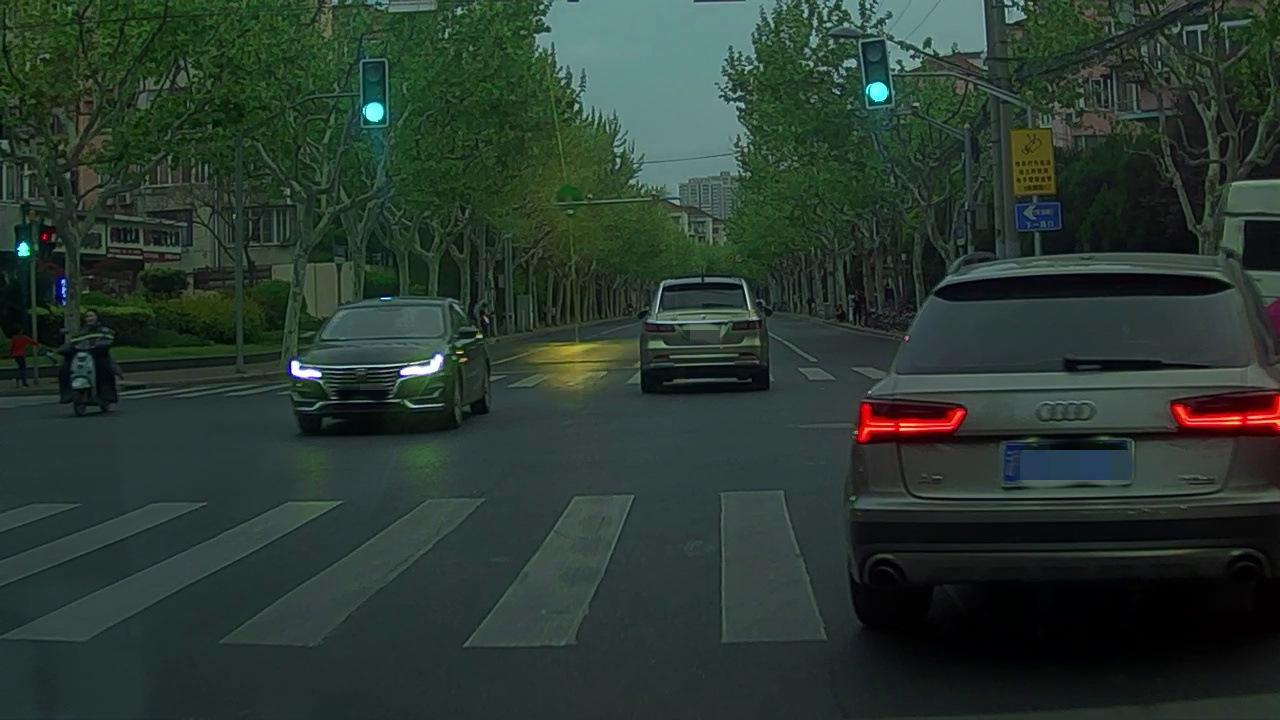traffic_light: (862, 40, 890, 107), (362, 61, 388, 125)
